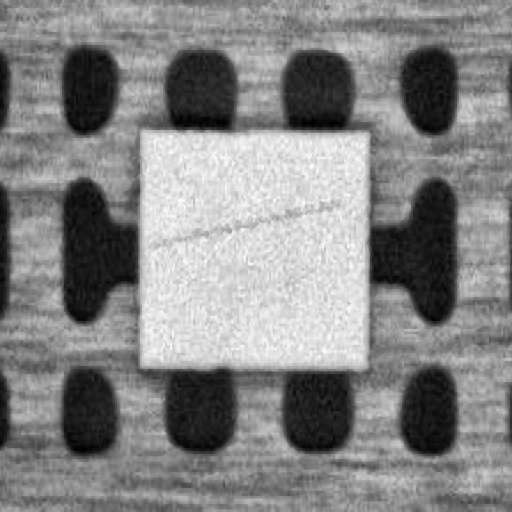DIE_CRACK: (228, 135, 504, 161)
